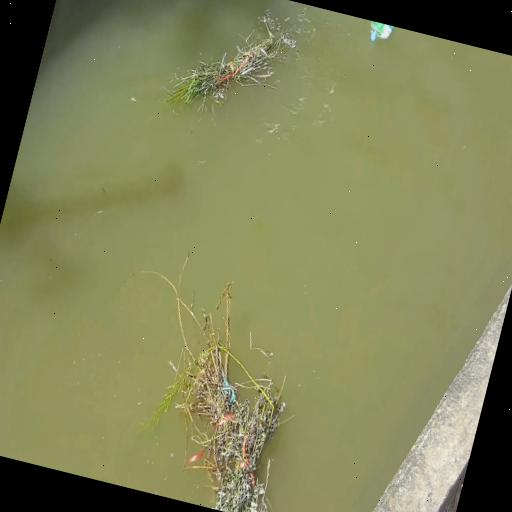plastic: (371, 21, 392, 40)
twig: (143, 254, 288, 512), (169, 18, 295, 109)
